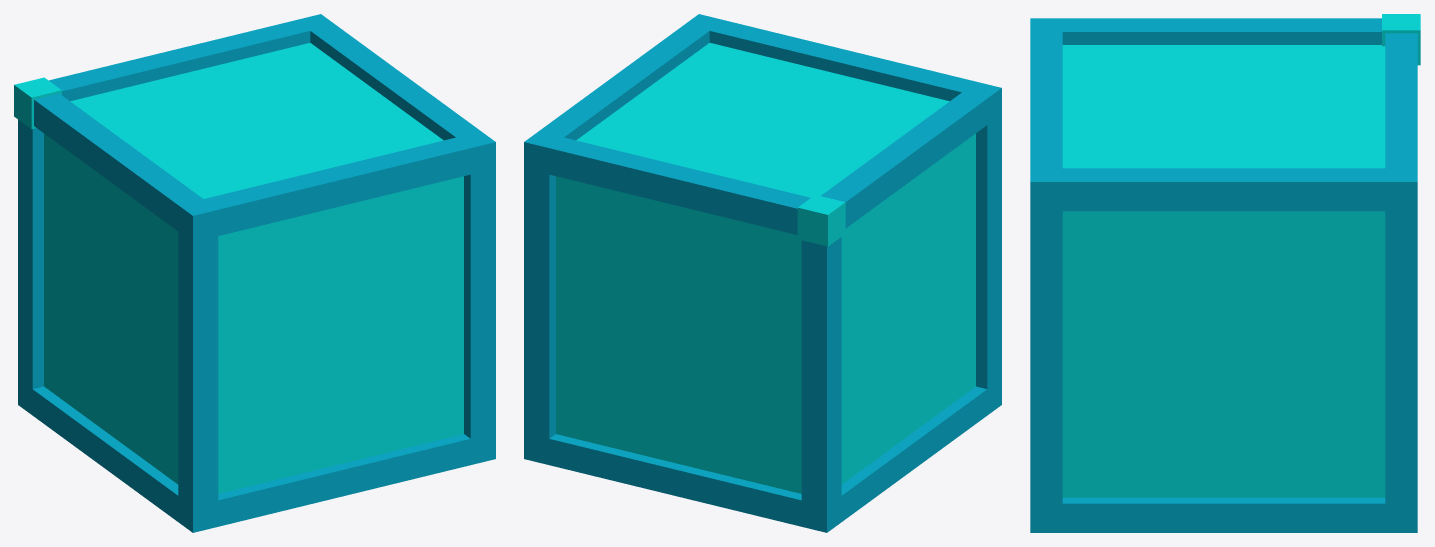
The model's file is BoxBFX.fbx.
3 views of the same model, side by side, from view 1: azimuth 30°, elevation 25°; view 2: azimuth 150°, elevation 25°; view 3: azimuth 270°, elevation 25° (orthographic). The views are drawn at different scales.
Visible parts, largest first — view 1: polySurface1, pCube12; view 2: polySurface1, pCube12; view 3: polySurface1, pCube12.
Part boxes in pixels (box(x1,y1,x2,y2)): polySurface1: box(18, 14, 495, 532); pCube12: box(14, 77, 61, 129); polySurface1: box(524, 14, 1001, 532); pCube12: box(797, 195, 845, 246); polySurface1: box(1030, 18, 1417, 532); pCube12: box(1382, 14, 1420, 65).
Size of the model in its own units: 12.1 by 12.1 by 12.1.
